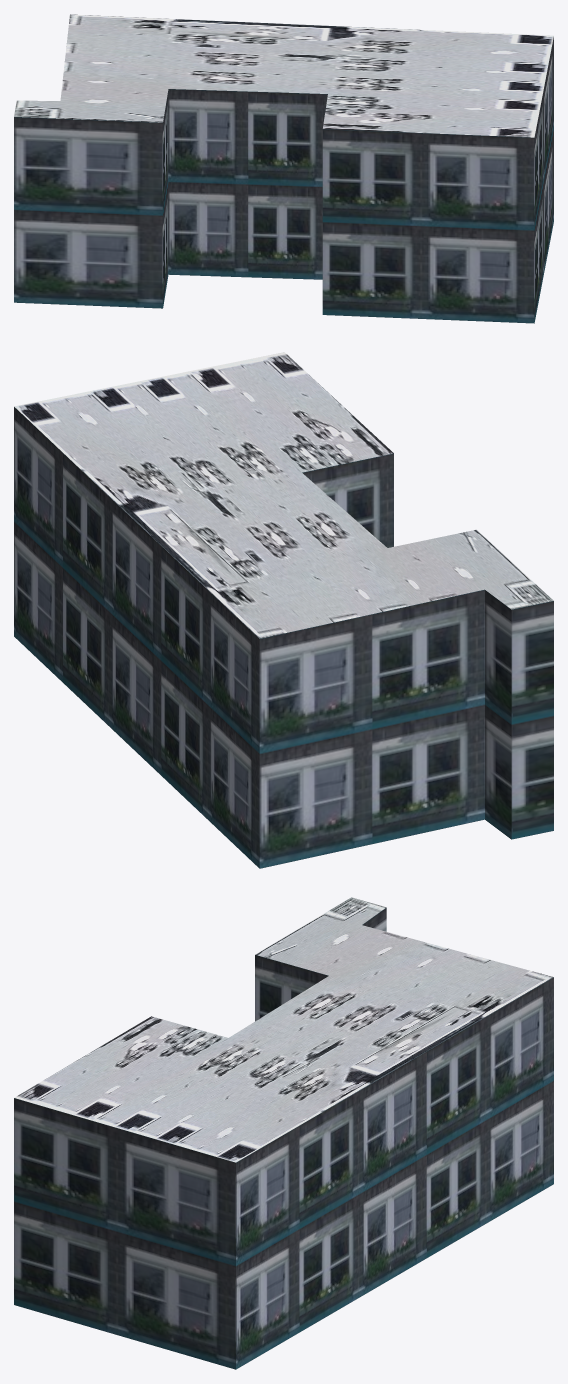
The model's file is ResTex__3901.fbx.
3 renders of one model, top to bottom at view 1: azimuth 30°, elevation 25°; view 2: azimuth 150°, elevation 25°; view 3: azimuth 270°, elevation 25°, orthographic. The views are drawn at different scales.
Visible parts, largest first — view 1: CityEngineMaterial_11_m, CityEngineMaterial_2_m; view 2: CityEngineMaterial_11_m, CityEngineMaterial_2_m; view 3: CityEngineMaterial_11_m, CityEngineMaterial_2_m.
Boxes of the visible parts, x1=… form: CityEngineMaterial_11_m: x1=14, y1=37, x2=553, y2=323; CityEngineMaterial_2_m: x1=14, y1=14, x2=553, y2=137; CityEngineMaterial_11_m: x1=14, y1=407, x2=553, y2=868; CityEngineMaterial_2_m: x1=14, y1=352, x2=553, y2=638; CityEngineMaterial_11_m: x1=14, y1=907, x2=553, y2=1369; CityEngineMaterial_2_m: x1=14, y1=897, x2=553, y2=1162.
Bounding box in the file's own units: 16.49 × 6 × 14.18.
Materials: 2 (2 with a texture image).
